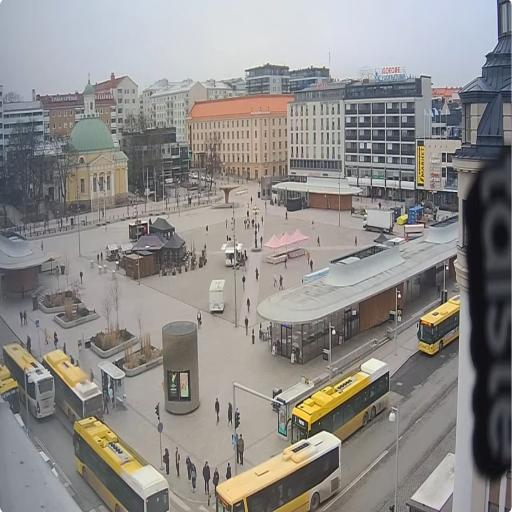bus: (285, 356, 391, 454), (214, 431, 344, 508), (69, 414, 171, 510), (42, 345, 102, 432), (4, 339, 57, 420), (414, 292, 460, 359), (1, 358, 22, 426)
car: (207, 175, 216, 184), (191, 172, 198, 180), (202, 174, 206, 182)
delivery: (362, 207, 395, 236)
